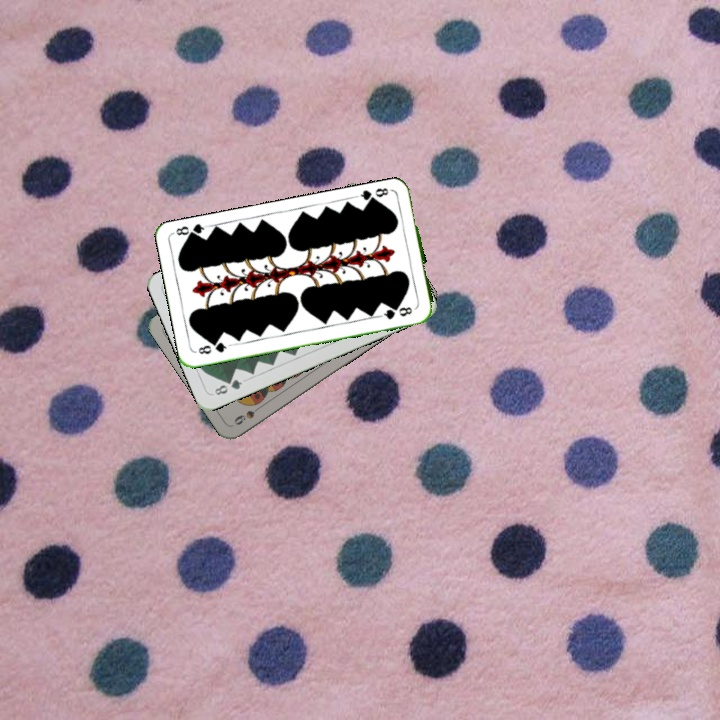G8: (354, 184, 395, 207), (210, 375, 245, 398), (194, 338, 233, 357)
S9: (230, 398, 266, 428)
